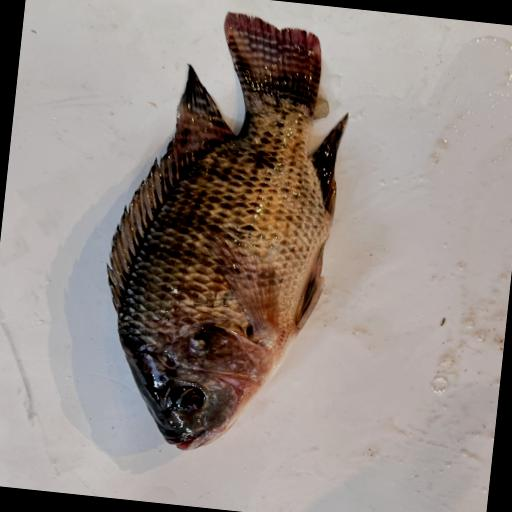Tilapia: (87, 1, 360, 465)
